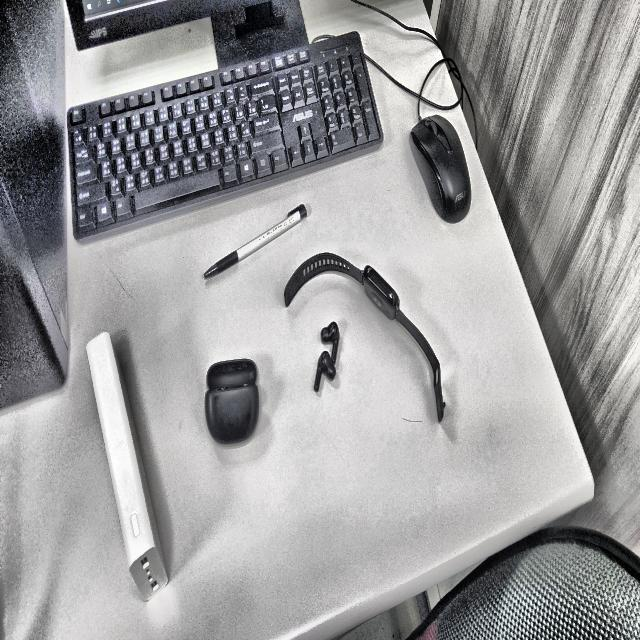Bluetooth headphones: (205, 359, 259, 445), (314, 322, 339, 392)
Electronic watch: (364, 266, 399, 319)
Keyboard: (66, 31, 383, 243)
MOUSE: (410, 115, 471, 223)
Power bank: (87, 333, 168, 601)
Screen: (66, 0, 222, 50)
